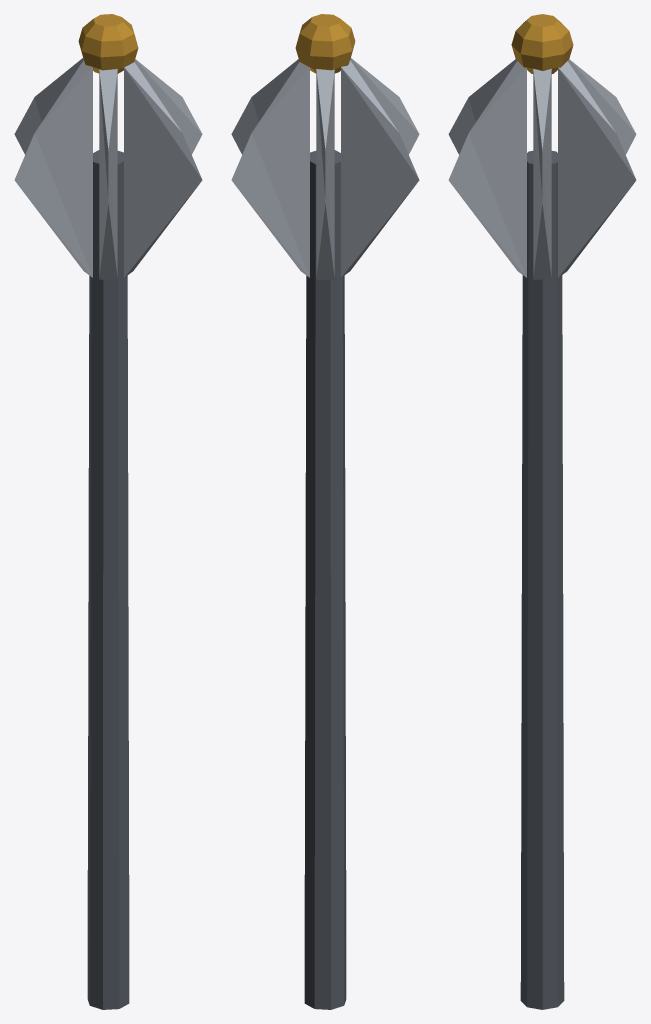
File: g-mace.glb
The picture shows the model from 3 angles, left to right: view 1: azimuth 30°, elevation 25°; view 2: azimuth 150°, elevation 25°; view 3: azimuth 270°, elevation 25°; orthographic projection.
Visible parts, largest first — view 1: g-mace; view 2: g-mace; view 3: g-mace.
Part boxes in pixels (box(x1,y1,x2,y2)): g-mace: box(14, 14, 202, 1009); g-mace: box(231, 14, 419, 1009); g-mace: box(448, 14, 636, 1009).
Size of the model in its own units: 0.14 by 0.6973 by 0.1212.
